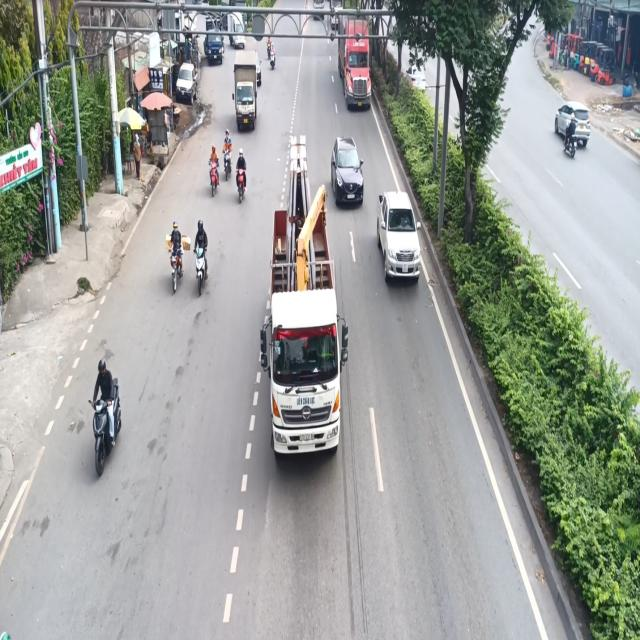car: (376, 180, 426, 304), (330, 125, 364, 208)
motor: (89, 345, 122, 487), (164, 216, 187, 291), (192, 216, 208, 303), (203, 143, 223, 194), (232, 144, 249, 200)
truck: (265, 132, 342, 480), (230, 40, 262, 128)
